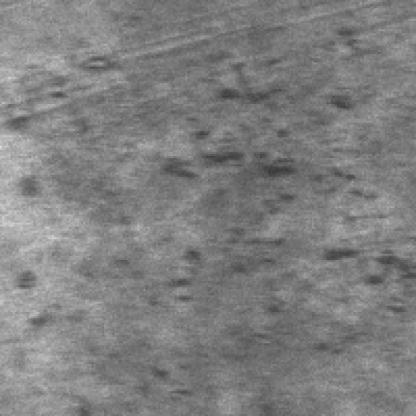rolled-in_scale: (150, 56, 412, 331), (4, 52, 112, 402)
